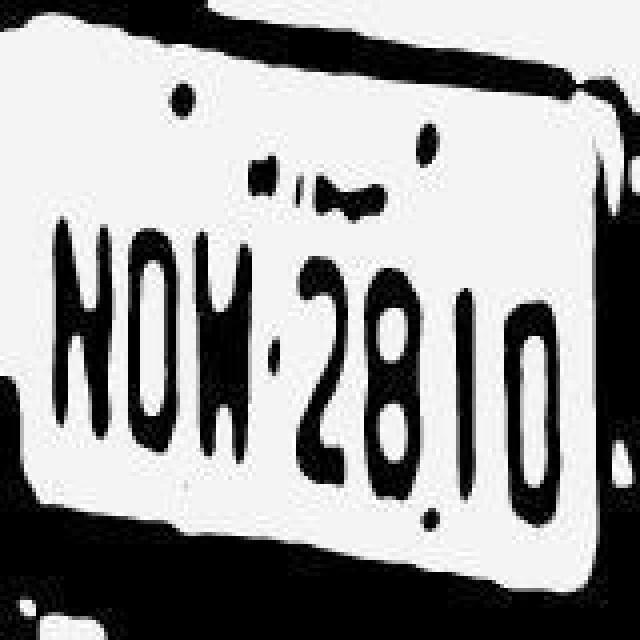1: (446, 250, 490, 518)
2: (280, 246, 352, 514)
8: (356, 260, 428, 508)
N: (38, 196, 122, 460)
O: (120, 216, 192, 472), (500, 284, 572, 532)
W: (192, 226, 264, 470)
